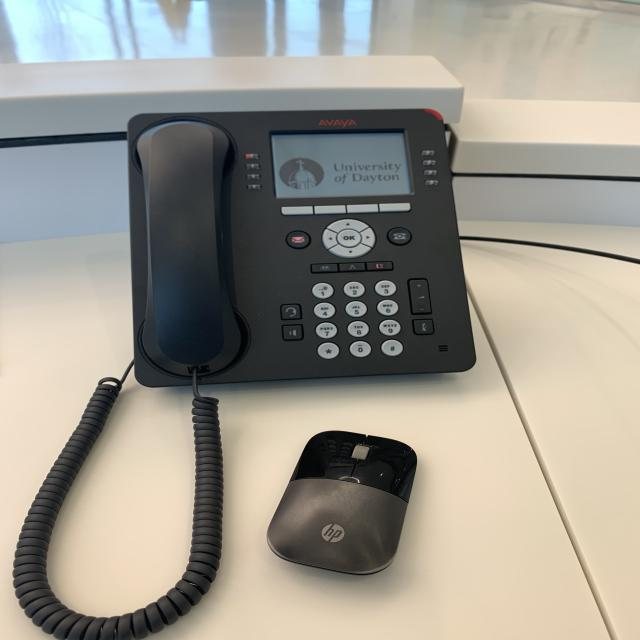Mouse: (260, 428, 419, 578)
